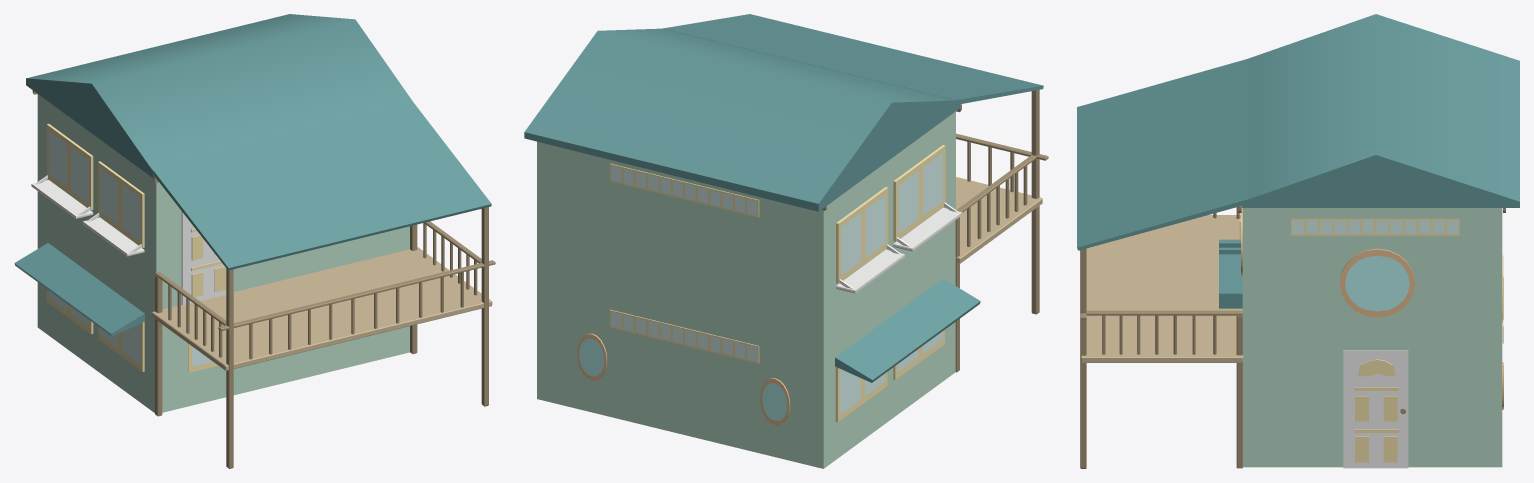
The model's file is House_05.fbx.
The picture shows the model from 3 angles, left to right: view 1: azimuth 30°, elevation 25°; view 2: azimuth 150°, elevation 25°; view 3: azimuth 270°, elevation 25°; orthographic projection. The views are drawn at different scales.
Visible parts, largest first — view 1: pCube130, pCube131, polySurface19, pCube84, pCube82, pCube129, polySurface10 (×3), polySurface7 (×3), pCube44, pCube40 (×2), pole01, pole02 (+1 smaller); view 2: pCube82, pCube130, pCube84, pCube131, polySurface19, pCube129, polySurface10 (×3), polySurface7 (×3), Window53, Window56, pCube40 (×2), pole01 (+1 smaller); view 3: pCube130, pCube82, pCube131, pCube84, polySurface19, pCube44, Window48, polySurface13, pCube52, pCube128, pole02, polySurface11.
Part boxes in pixels (<box>): pCube130: <box>26,14,412,177</box>; pCube131: <box>150,102,491,270</box>; polySurface19: <box>152,221,495,416</box>; pCube84: <box>37,220,409,412</box>; pCube82: <box>37,94,409,308</box>; pCube129: <box>14,243,144,336</box>; polySurface10 (×3): <box>49,131,140,364</box>; polySurface7 (×3): <box>46,124,144,371</box>; pCube44: <box>181,211,233,305</box>; pCube40 (×2): <box>31,180,144,256</box>; pole01: <box>226,268,233,468</box>; pole02: <box>481,207,488,406</box>; pCube82: <box>537,111,955,352</box>; pCube130: <box>524,28,960,211</box>; pCube84: <box>537,252,955,468</box>; pCube131: <box>663,14,1043,103</box>; polySurface19: <box>955,133,1048,372</box>; pCube129: <box>835,278,980,382</box>; polySurface10 (×3): <box>840,153,942,414</box>; polySurface7 (×3): <box>835,145,945,422</box>; Window53: <box>610,163,759,217</box>; Window56: <box>610,309,759,363</box>; pCube40 (×2): <box>836,207,962,293</box>; pole01: <box>1031,90,1039,314</box>; pCube130: <box>1242,14,1519,207</box>; pCube82: <box>1242,208,1502,352</box>; pCube131: <box>1077,58,1248,250</box>; pCube84: <box>1243,349,1502,467</box>; polySurface19: <box>1080,207,1243,468</box>; pCube44: <box>1343,350,1408,468</box>; Window48: <box>1291,218,1459,235</box>; polySurface13: <box>1345,256,1409,311</box>; pCube52: <box>1354,359,1398,462</box>; pCube128: <box>1219,239,1242,308</box>; pole02: <box>1080,248,1086,468</box>; polySurface11: <box>1339,248,1414,317</box>.
Size of the model in its own units: 583 by 535 by 682.
